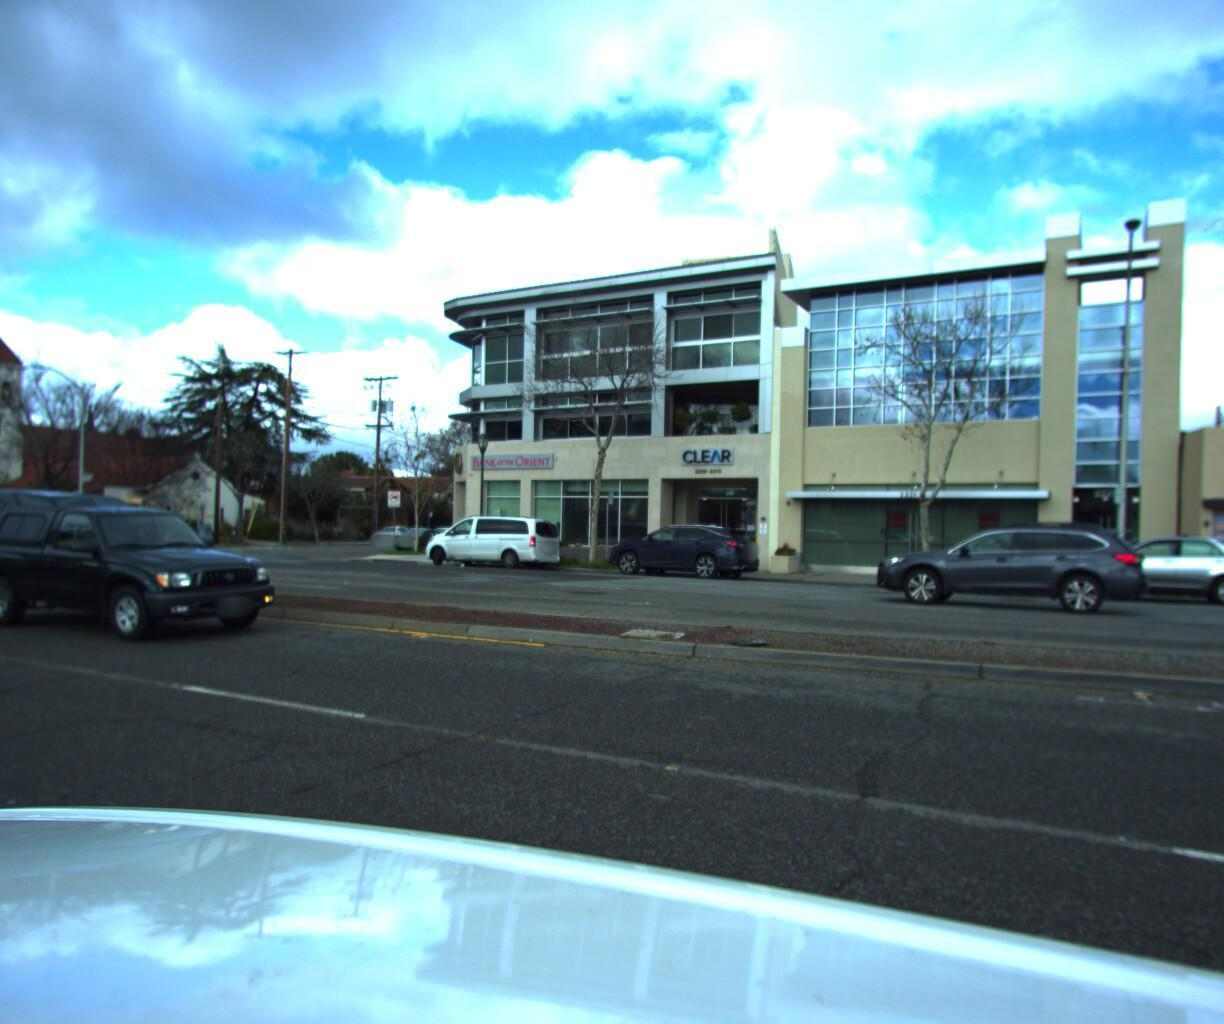car: (0, 482, 304, 649), (869, 513, 1154, 616), (1049, 527, 1224, 612), (0, 488, 150, 582), (592, 516, 767, 581), (411, 508, 565, 568), (385, 522, 455, 552), (368, 519, 417, 541)
